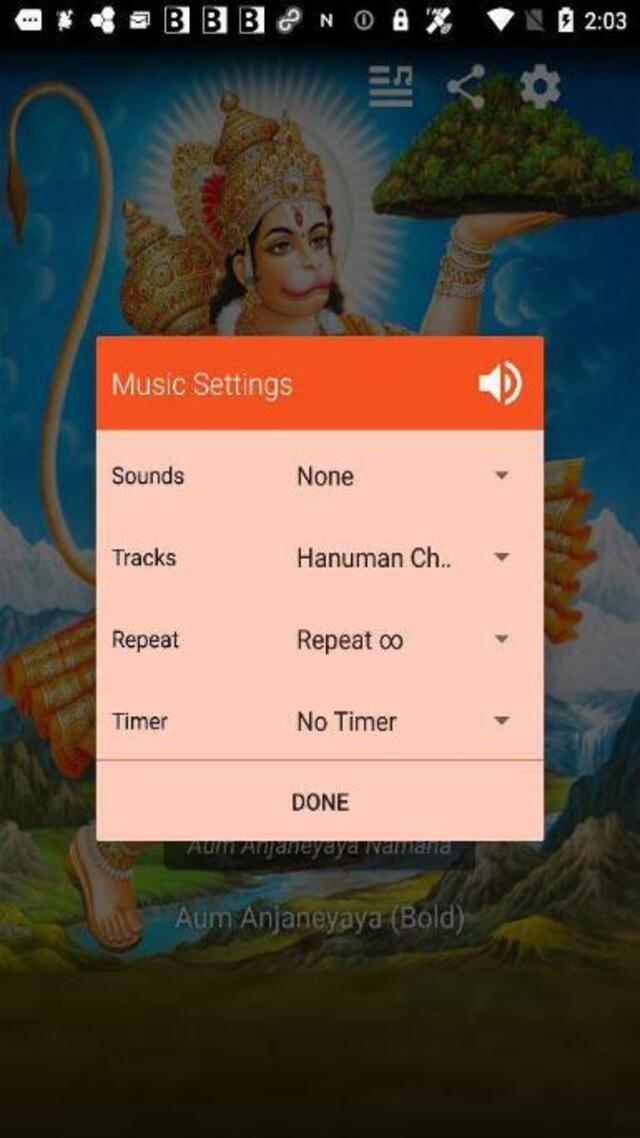Icon: (369, 67, 412, 108), (520, 65, 560, 109), (445, 65, 483, 109), (492, 716, 509, 724), (493, 553, 508, 560), (493, 635, 508, 642), (496, 472, 508, 478)
Image: (478, 362, 523, 406)
Text: (174, 903, 463, 932), (114, 371, 292, 401), (296, 548, 449, 569), (298, 630, 400, 654), (282, 786, 352, 816), (298, 710, 396, 730), (112, 630, 180, 654), (112, 464, 184, 486), (112, 546, 177, 567), (298, 464, 354, 486), (113, 710, 170, 730)
TextButton: (96, 761, 542, 839)
